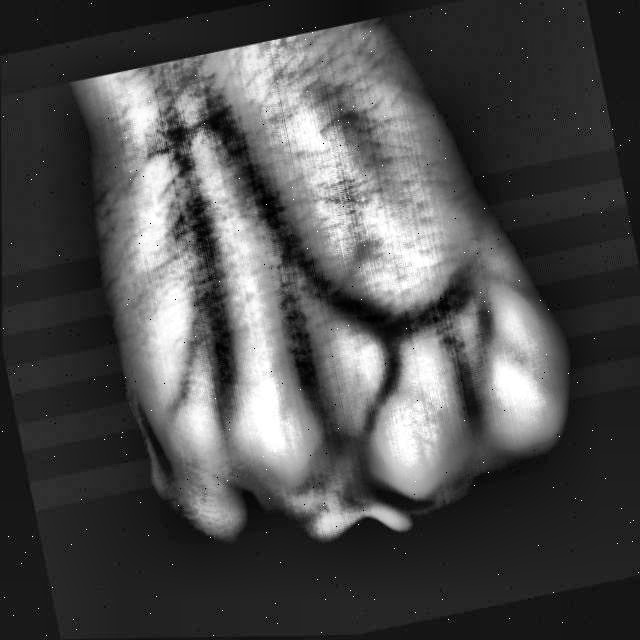Vein: (200, 104, 313, 344), (159, 122, 232, 328)
